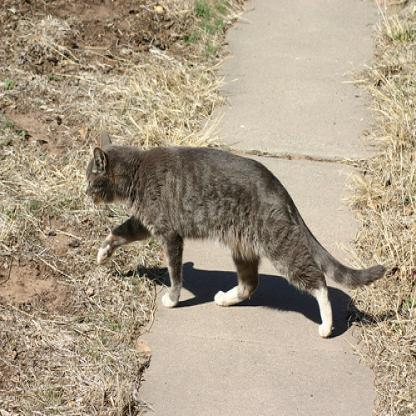cat: (82, 126, 386, 340)
